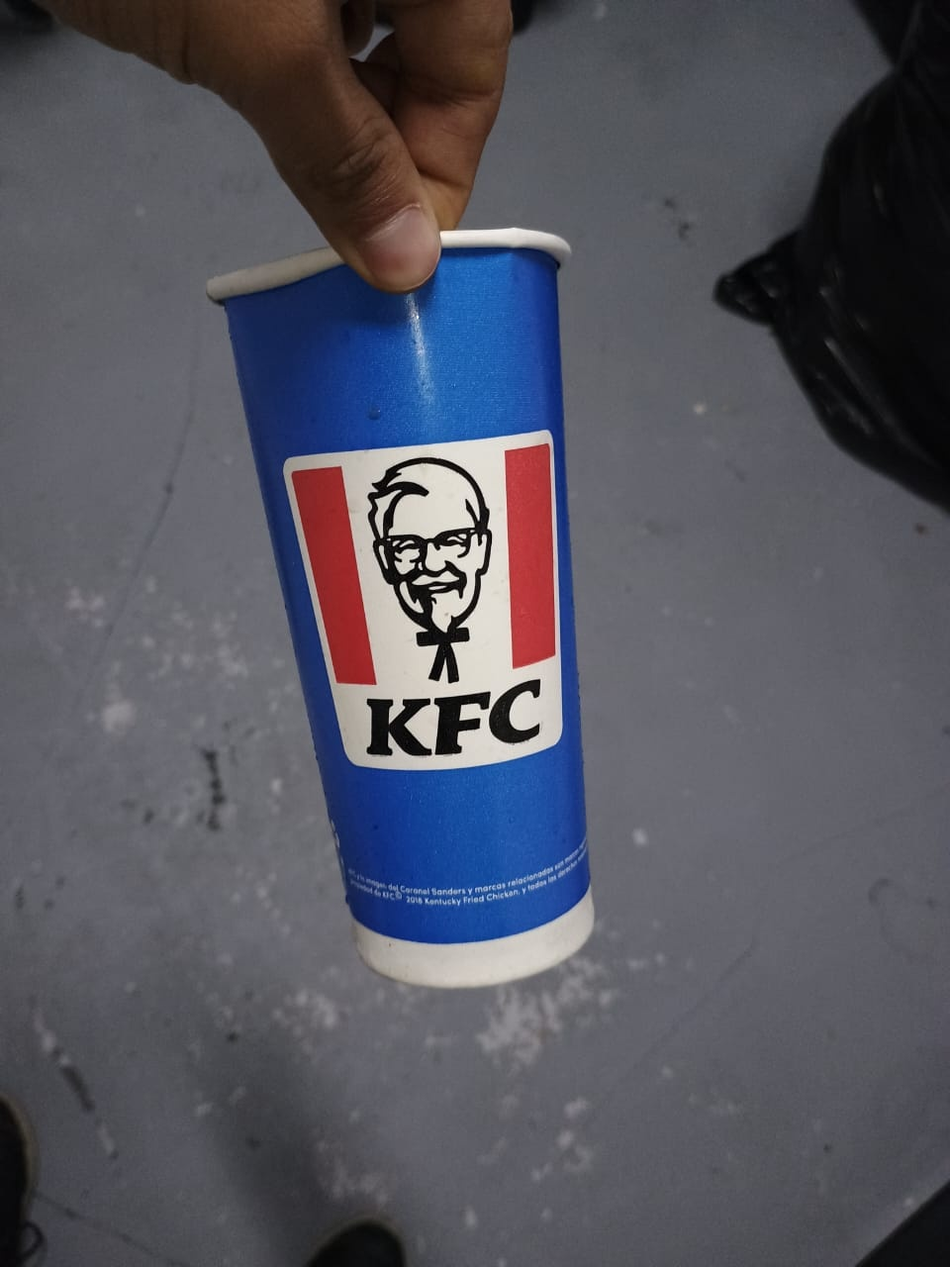Carton: (203, 228, 597, 991)
